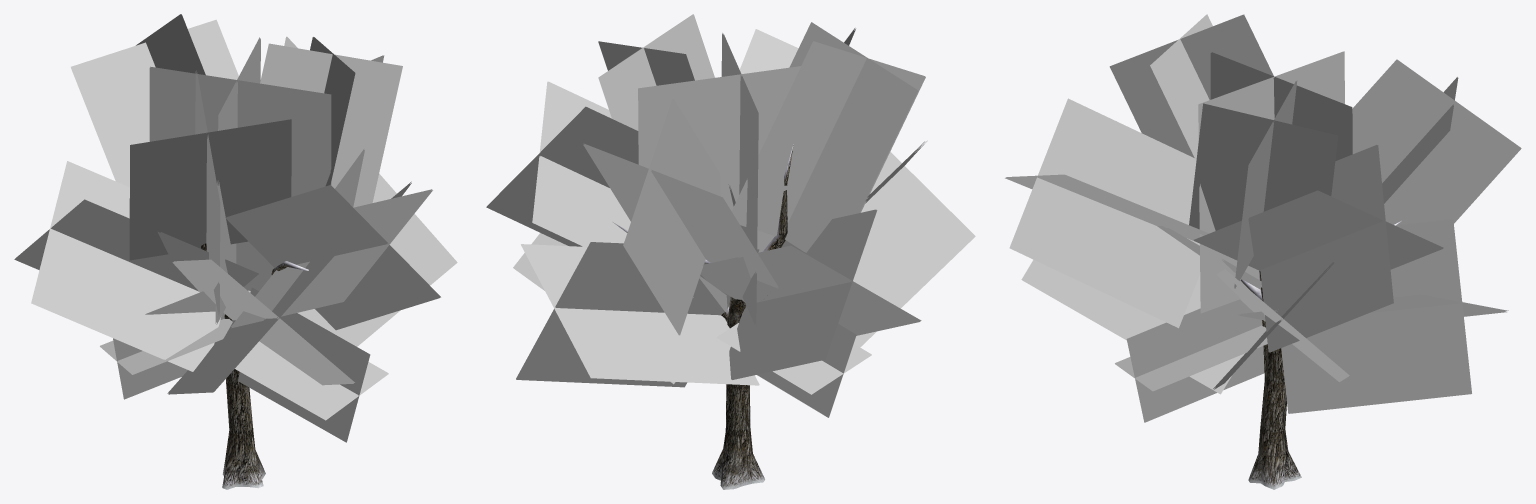
Rendered from xuedi_shu01.FBX.
The picture shows the model from 3 angles, left to right: view 1: azimuth 30°, elevation 25°; view 2: azimuth 150°, elevation 25°; view 3: azimuth 270°, elevation 25°; orthographic projection.
Parts seen in each view (by area): view 1: TRI_L1_dashu_004; view 2: TRI_L1_dashu_004; view 3: TRI_L1_dashu_004.
Part boxes in pixels (left/top/right/bottom): TRI_L1_dashu_004: left=14, top=14, right=457, bottom=489; TRI_L1_dashu_004: left=486, top=14, right=975, bottom=489; TRI_L1_dashu_004: left=1005, top=14, right=1521, bottom=489.
Bounding box in the file's own units: 15.72 × 16.86 × 18.2.
